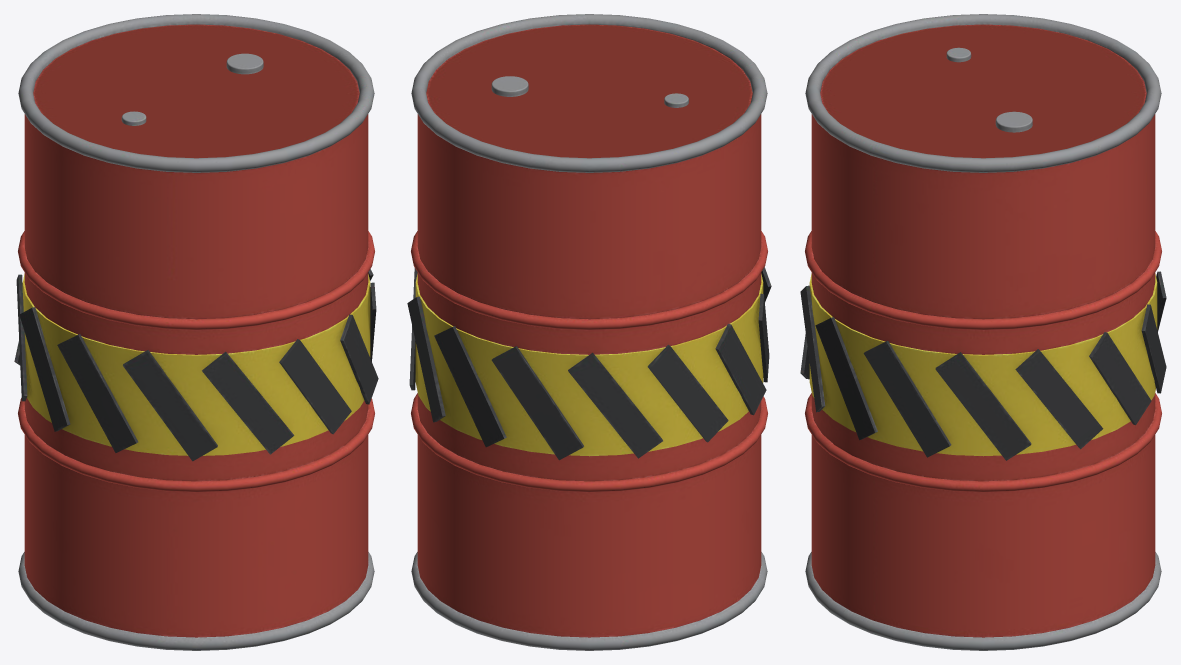
File: redbarrel.fbx
The picture shows the model from 3 angles, left to right: view 1: azimuth 30°, elevation 25°; view 2: azimuth 150°, elevation 25°; view 3: azimuth 270°, elevation 25°; orthographic projection.
Parts seen in each view (by area): view 1: redbarrel; view 2: redbarrel; view 3: redbarrel.
Part boxes in pixels (bbox=[...]): redbarrel: bbox=[14, 14, 378, 650]; redbarrel: bbox=[407, 14, 771, 650]; redbarrel: bbox=[800, 14, 1166, 650].
Size of the model in its own units: 0.5847 by 0.8796 by 0.5942.
